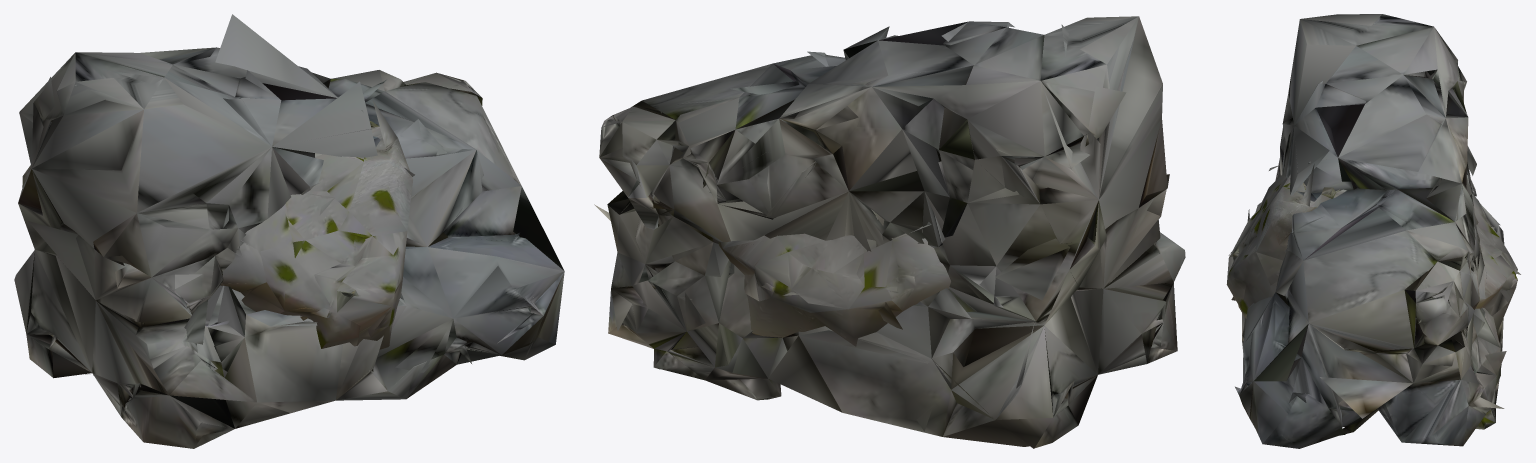
The model's file is rocks-temperate.glb.
3 views of the same model, side by side, from view 1: azimuth 30°, elevation 25°; view 2: azimuth 150°, elevation 25°; view 3: azimuth 270°, elevation 25° (orthographic). The views are drawn at different scales.
Visible parts, largest first — view 1: rock-temperate-outcrop_mesh, rock-temperate-boulder_mesh, rock-temperate-outcrop_far_mesh, rock-temperate-boulder_far_mesh; view 2: rock-temperate-outcrop_mesh, rock-temperate-boulder_mesh, rock-temperate-outcrop_far_mesh, rock-temperate-boulder_far_mesh; view 3: rock-temperate-outcrop_mesh, rock-temperate-boulder_mesh, rock-temperate-outcrop_far_mesh, rock-temperate-boulder_far_mesh.
Boxes of the visible parts, <box> form: rock-temperate-outcrop_mesh: <box>14,47,564,448</box>; rock-temperate-boulder_mesh: <box>220,121,412,349</box>; rock-temperate-outcrop_far_mesh: <box>28,14,564,444</box>; rock-temperate-boulder_far_mesh: <box>221,101,414,331</box>; rock-temperate-outcrop_mesh: <box>599,16,1185,448</box>; rock-temperate-boulder_mesh: <box>718,216,950,346</box>; rock-temperate-outcrop_far_mesh: <box>594,21,1166,431</box>; rock-temperate-boulder_far_mesh: <box>757,209,941,329</box>; rock-temperate-outcrop_mesh: <box>1239,14,1504,448</box>; rock-temperate-boulder_mesh: <box>1226,174,1517,332</box>; rock-temperate-outcrop_far_mesh: <box>1235,81,1506,440</box>; rock-temperate-boulder_far_mesh: <box>1228,164,1520,300</box>.
Bounding box in the file's own units: 2.52 × 1.72 × 1.62.
4 materials, 4 textured.
